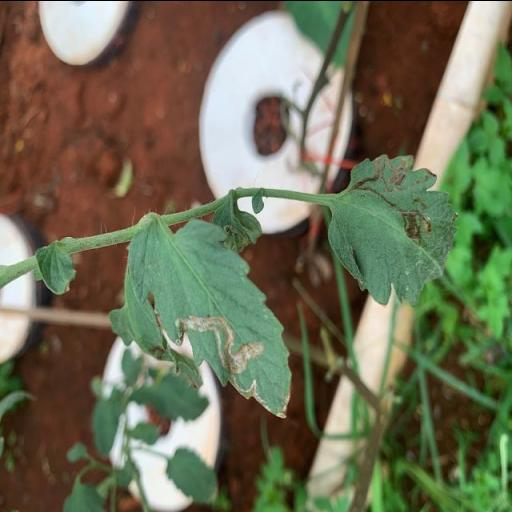Leaf Miner: (125, 218, 293, 422)
